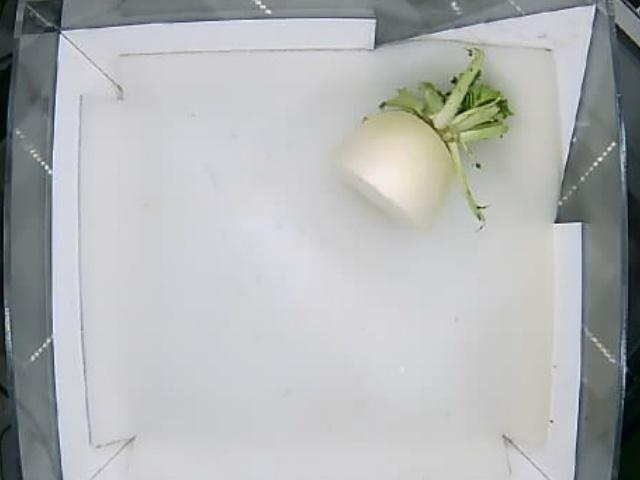Mooli: (332, 44, 510, 231)
